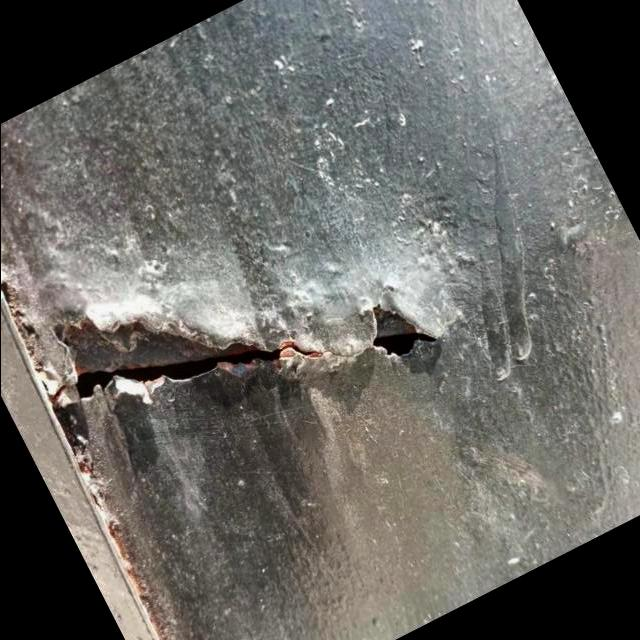defect: (49, 304, 442, 413)
